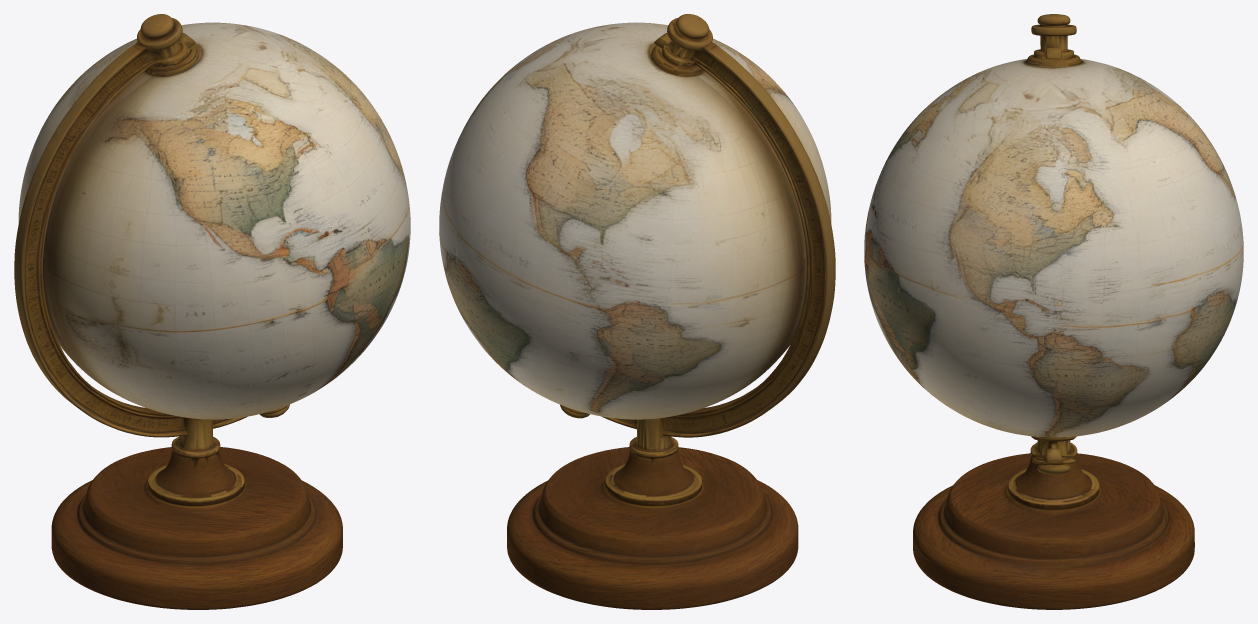
The model's file is globe.glb.
3 views of the same model, side by side, from view 1: azimuth 30°, elevation 25°; view 2: azimuth 150°, elevation 25°; view 3: azimuth 270°, elevation 25° (orthographic). The views are drawn at different scales.
Parts seen in each view (by area): view 1: node_0; view 2: node_0; view 3: node_0.
Boxes of the visible parts, left/top/right/bottom form: node_0: left=14, top=14, right=410, bottom=609; node_0: left=439, top=14, right=835, bottom=609; node_0: left=864, top=14, right=1243, bottom=609.
Bounding box in the file's own units: 0.7609 × 1.08 × 0.7113.
1 material, 1 textured.
